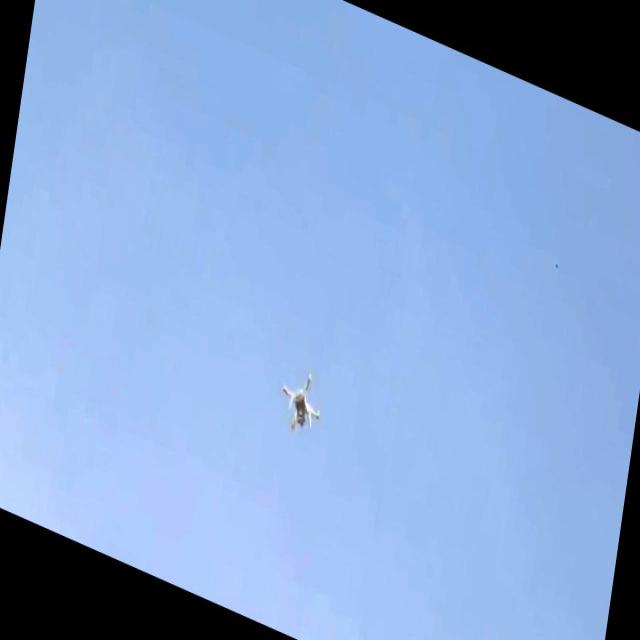drone: (279, 362, 323, 437)
